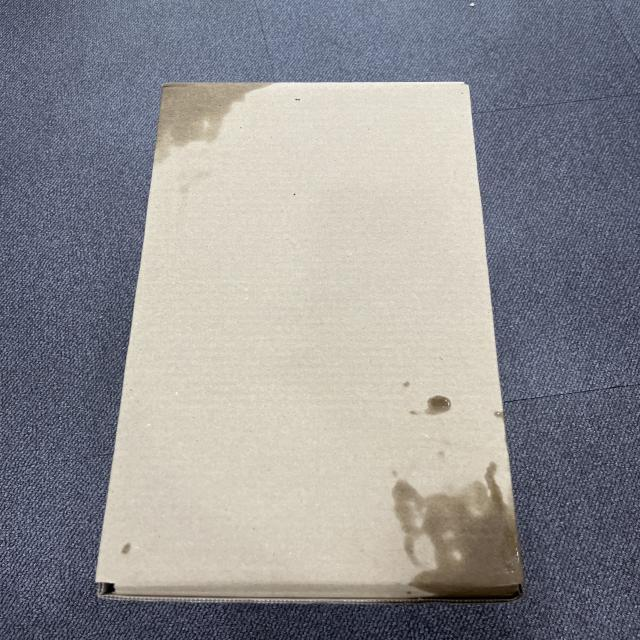wet: (379, 472, 534, 602), (145, 82, 273, 170)
